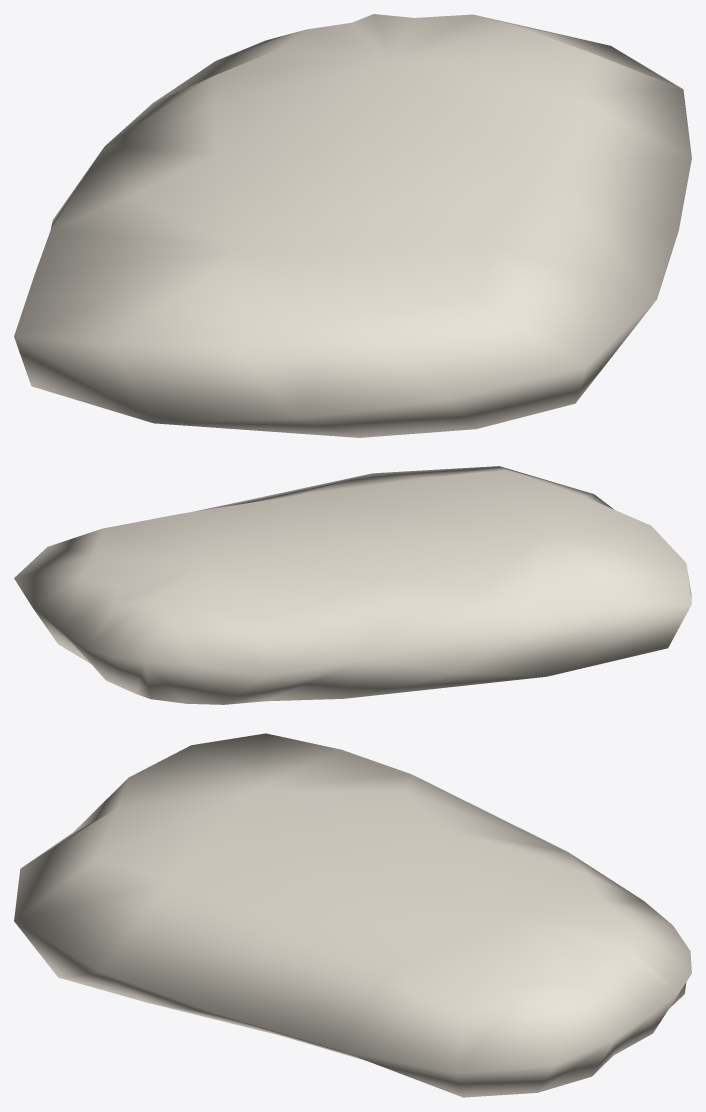
File: Iceberg.002.fbx
3 renders of one model, top to bottom at view 1: azimuth 30°, elevation 25°; view 2: azimuth 150°, elevation 25°; view 3: azimuth 270°, elevation 25°, orthographic. The views are drawn at different scales.
Visible parts, largest first — view 1: Iceberg.002; view 2: Iceberg.002; view 3: Iceberg.002.
Part boxes in pixels (x1,y1,x2,y2): Iceberg.002: (14, 14, 691, 437); Iceberg.002: (14, 466, 691, 704); Iceberg.002: (14, 733, 691, 1097).
Size of the model in its own units: 5.98 by 5.4 by 1.03.
